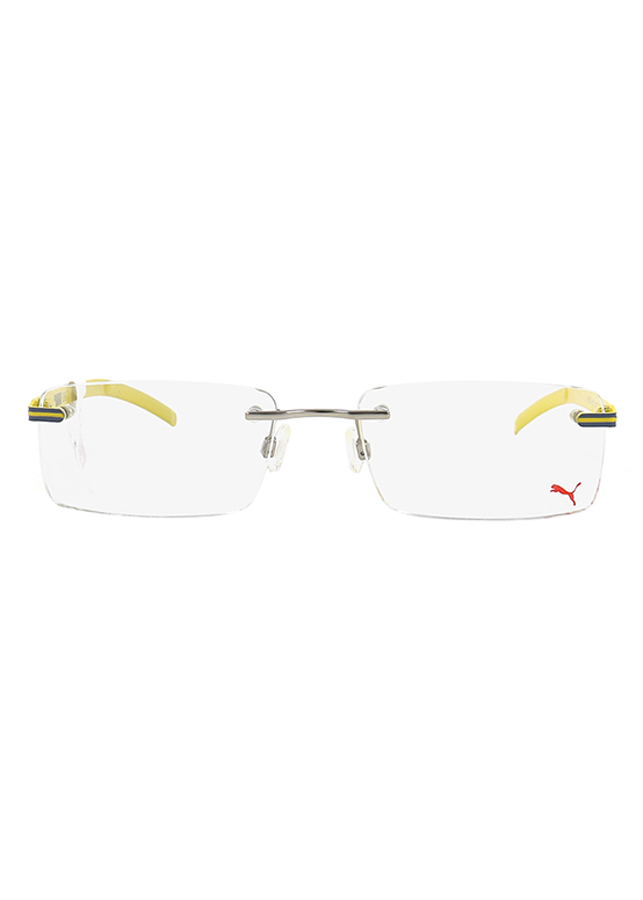Puma: (544, 479, 587, 510)
